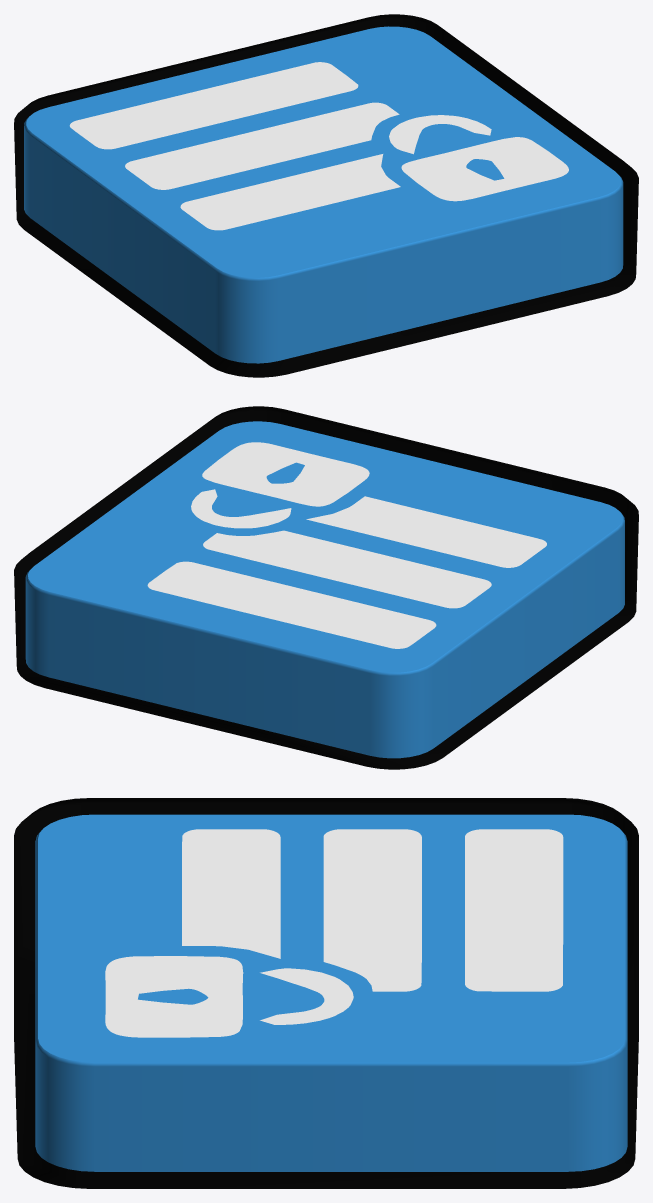
The model's file is SSL.obj.
3 renders of one model, top to bottom at view 1: azimuth 30°, elevation 25°; view 2: azimuth 150°, elevation 25°; view 3: azimuth 270°, elevation 25°, orthographic. The views are drawn at different scales.
Visible parts, largest first — view 1: SSL; view 2: SSL; view 3: SSL.
Part boxes in pixels (left/top/right/bottom): SSL: left=14, top=14, right=638, bottom=377; SSL: left=14, top=406, right=638, bottom=769; SSL: left=14, top=798, right=638, bottom=1188.
Size of the model in its own units: 1.06 by 0.2484 by 1.06.
